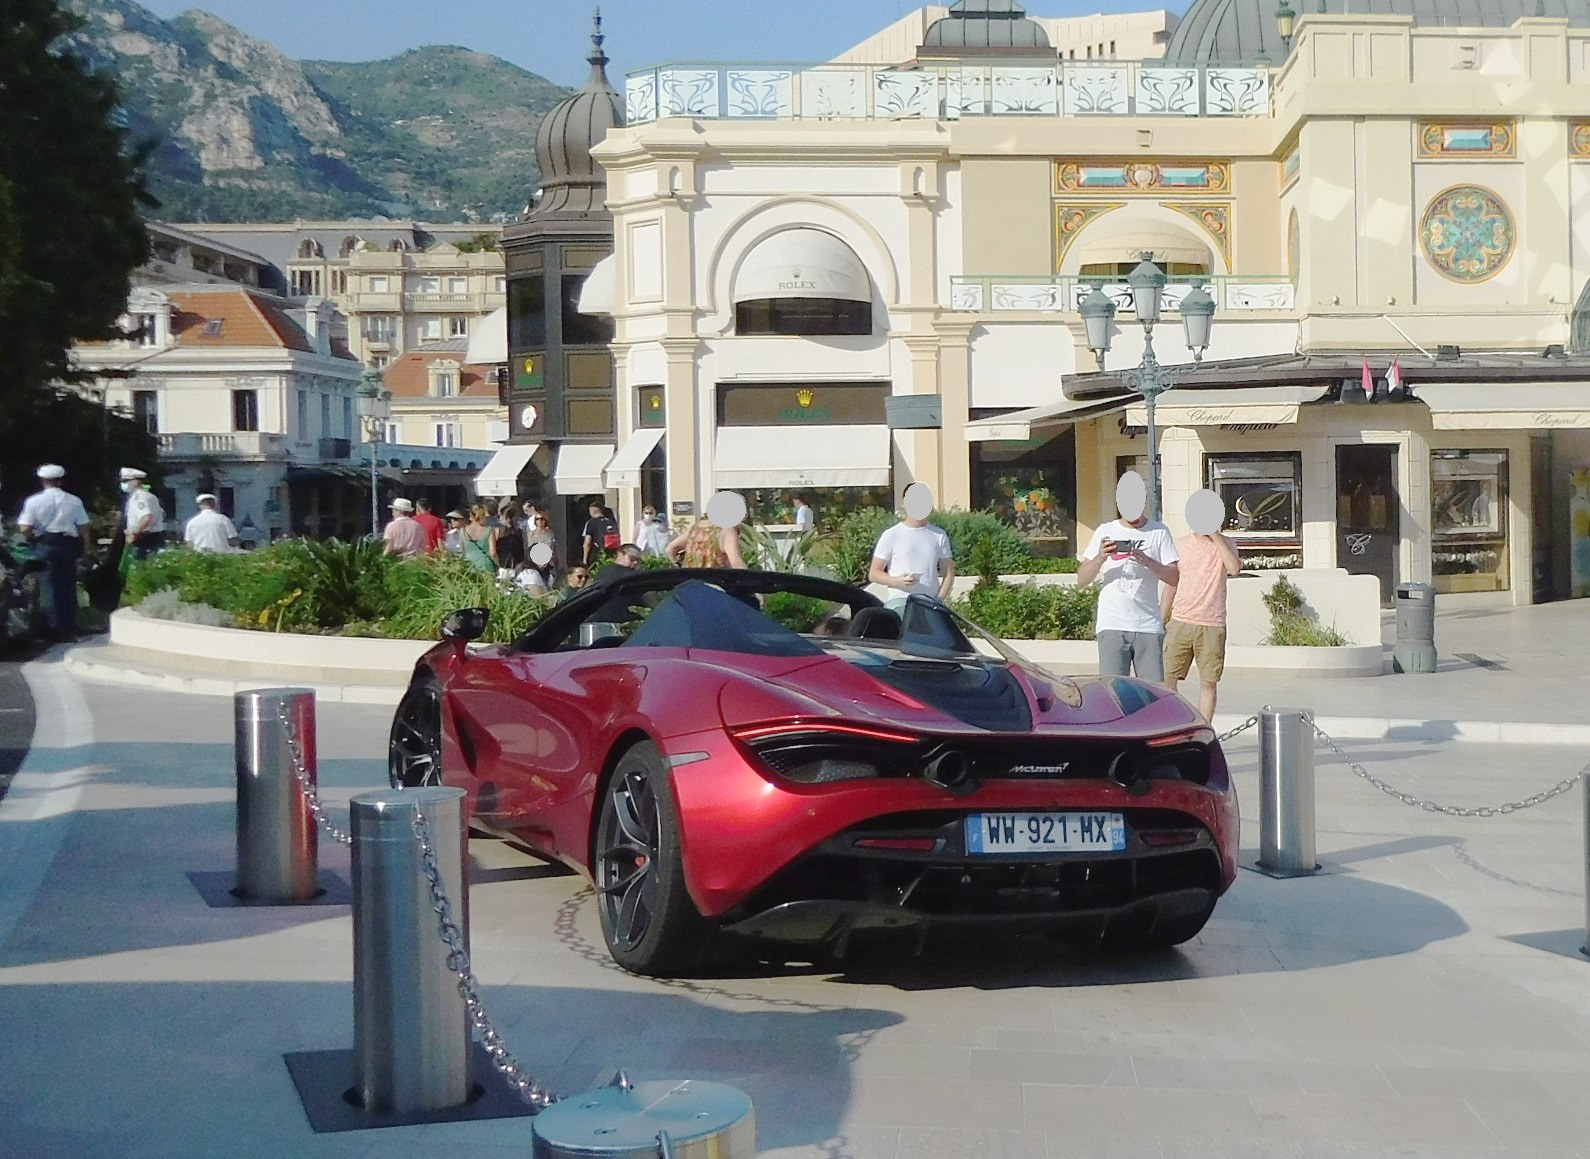licence plate: (956, 803, 1133, 859)
